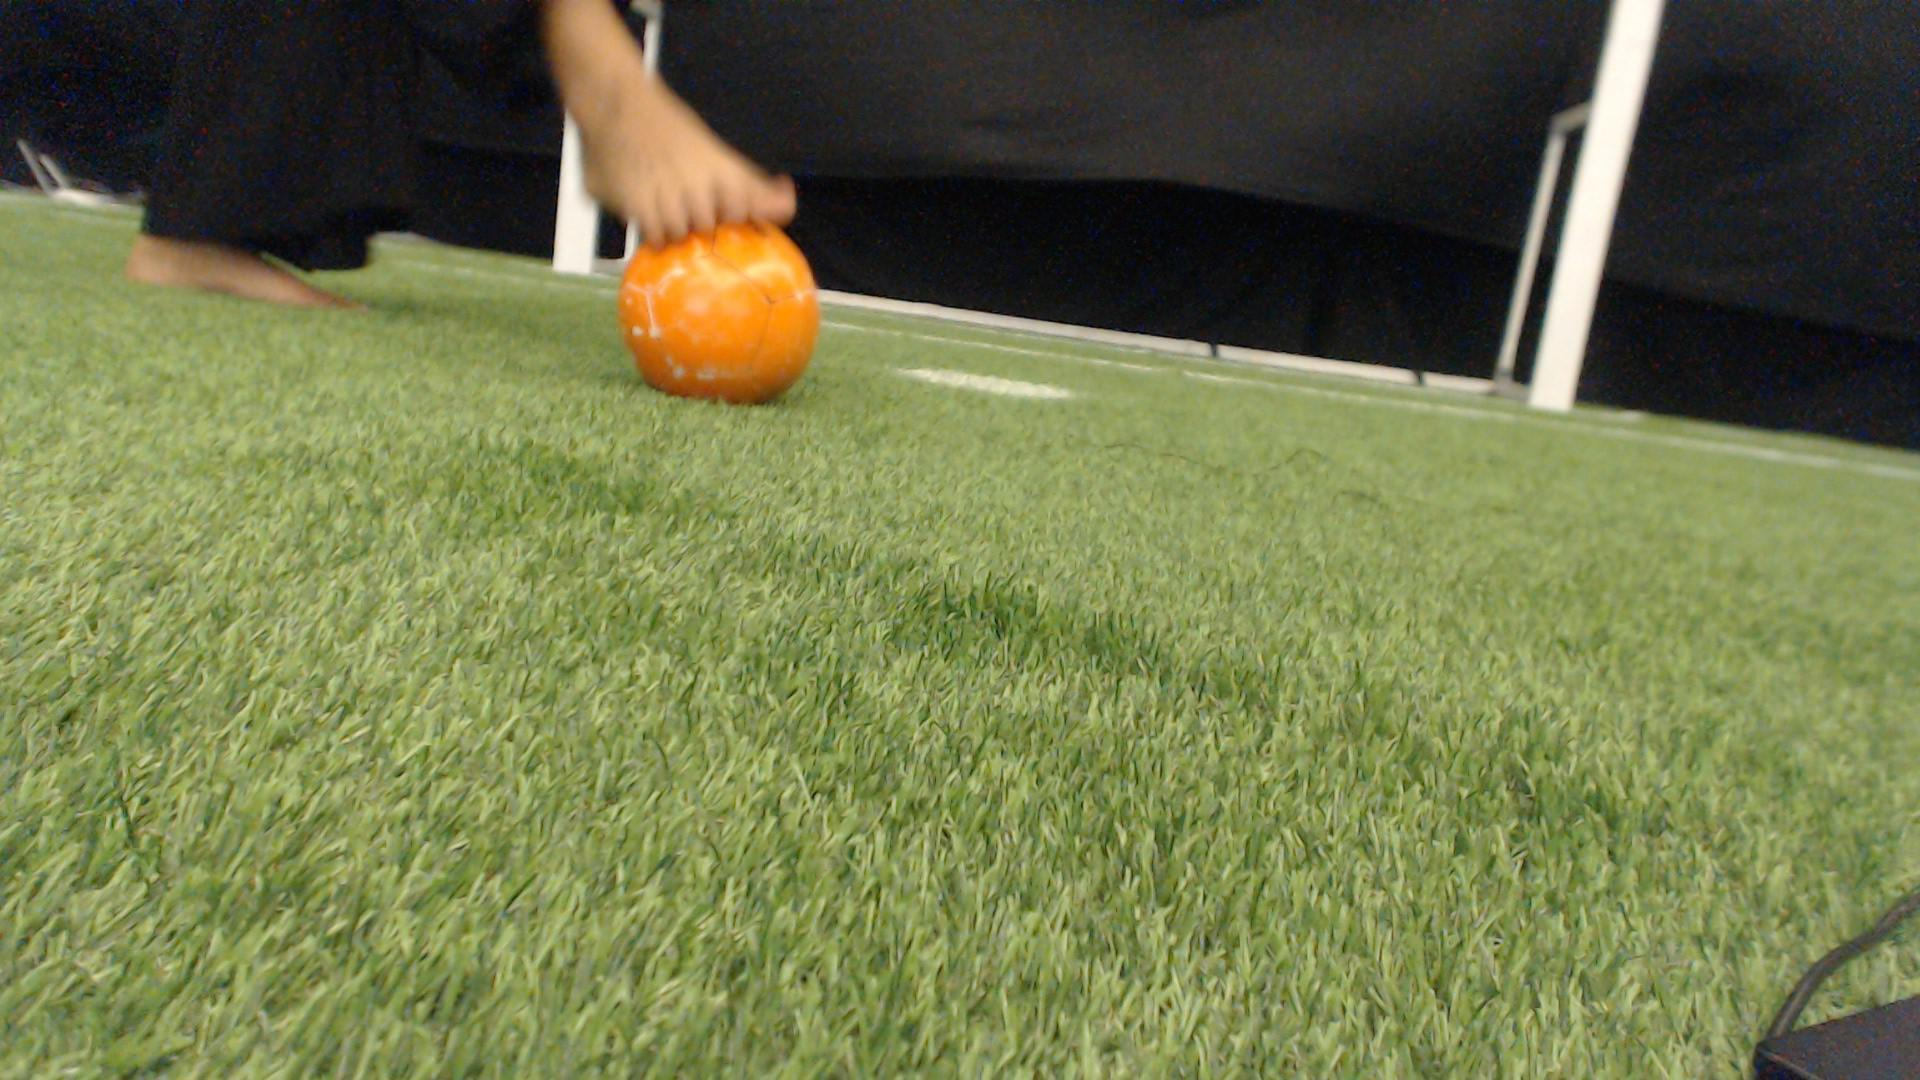bola: (611, 212, 832, 413)
